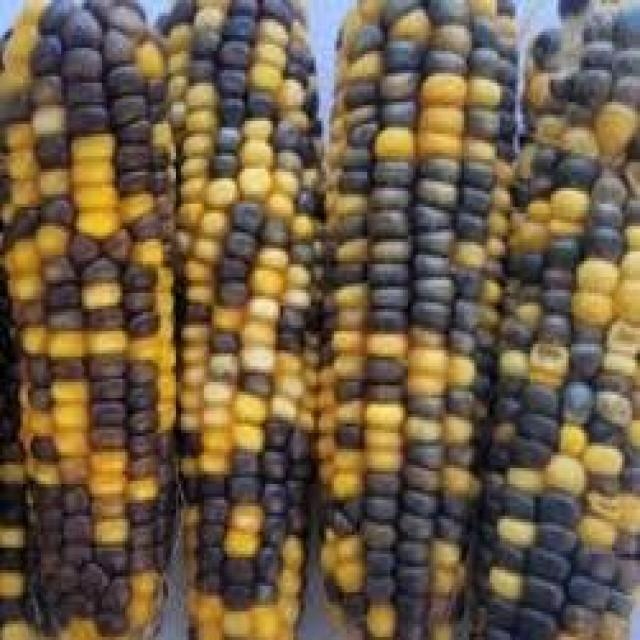discolored corn: (0, 0, 171, 640), (158, 0, 327, 640), (328, 0, 496, 640), (499, 4, 640, 640)
